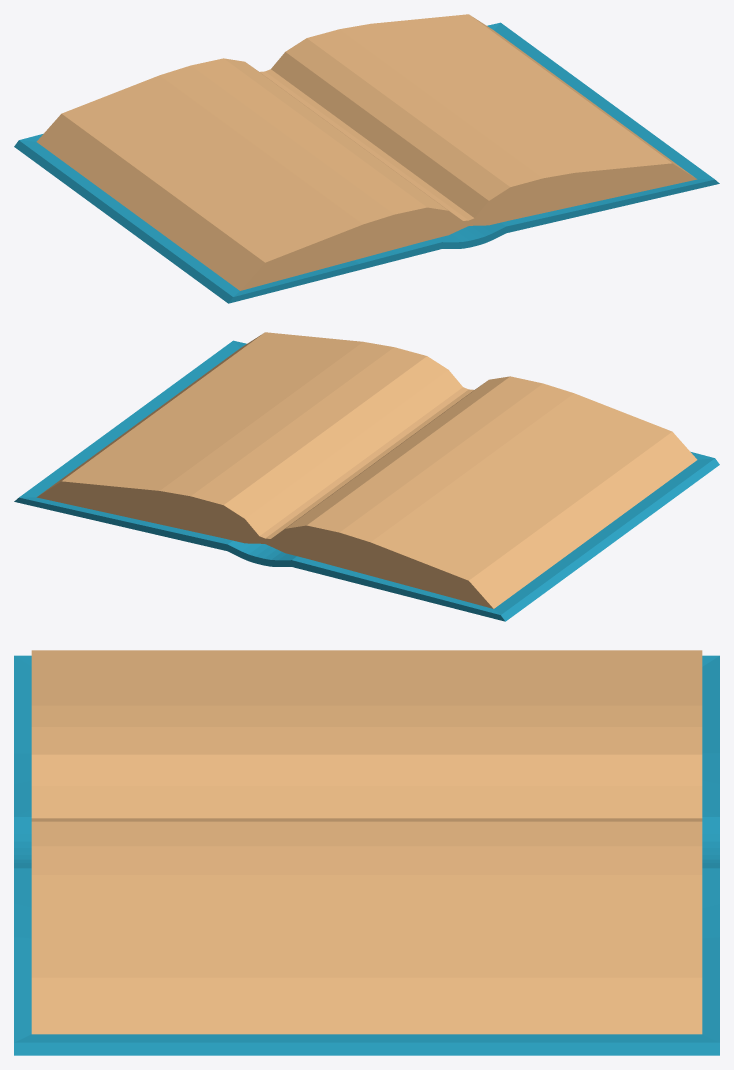
Rendered from open book.fbx.
3 renders of one model, top to bottom at view 1: azimuth 30°, elevation 25°; view 2: azimuth 150°, elevation 25°; view 3: azimuth 270°, elevation 25°, orthographic. The views are drawn at different scales.
Visible parts, largest first — view 1: Cube; view 2: Cube; view 3: Cube.
Boxes of the visible parts, x1,y1,x2,y2 form: Cube: (14,14,719,303); Cube: (14,332,719,621); Cube: (14,650,719,1055).
Bounding box in the file's own units: 455 × 40.8 × 344.
